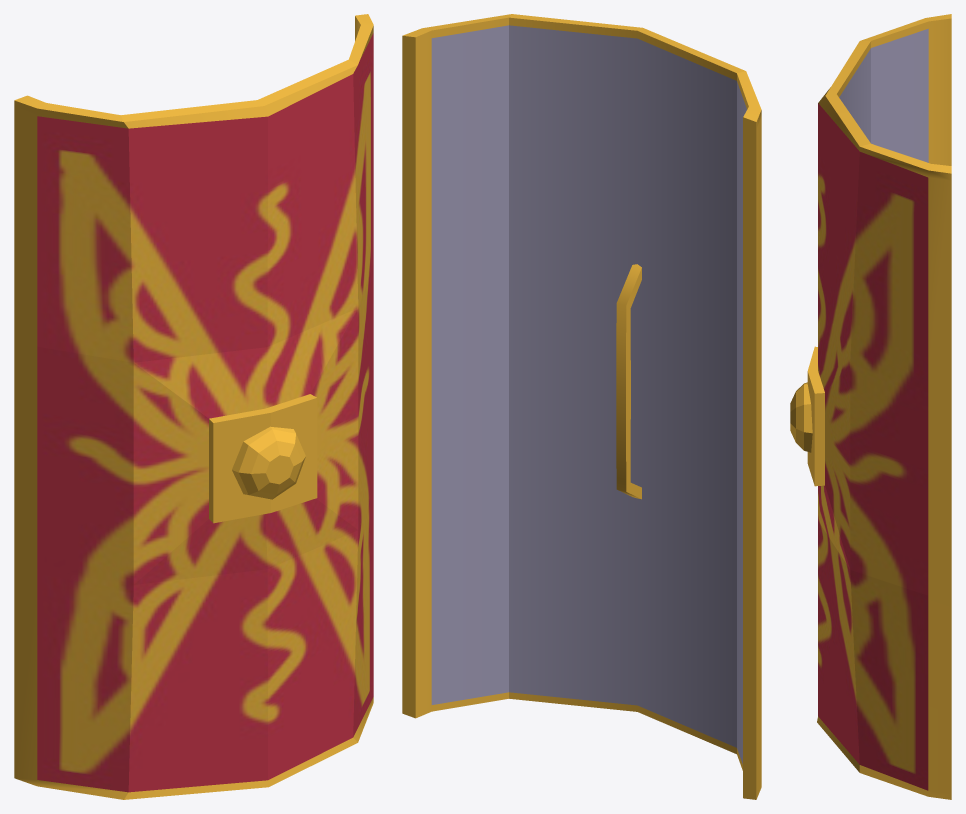
The model's file is khien roman.fbx.
3 renders of one model, left to right at view 1: azimuth 30°, elevation 25°; view 2: azimuth 150°, elevation 25°; view 3: azimuth 270°, elevation 25°, orthographic. The views are drawn at different scales.
Parts seen in each view (by area): view 1: khien; view 2: khien; view 3: khien.
Part boxes in pixels (box(x1,y1,x2,y2)): khien: box(14, 14, 373, 799); khien: box(402, 14, 761, 799); khien: box(790, 14, 951, 799).
Size of the model in its own units: 2.65 by 4.87 by 1.13.
Materials: 1 (1 with a texture image).
